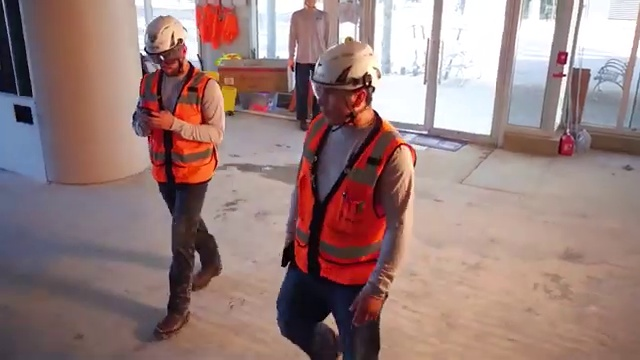helmet: (297, 38, 386, 85), (139, 11, 194, 58)
jacket: (301, 105, 412, 278), (131, 67, 223, 183)
